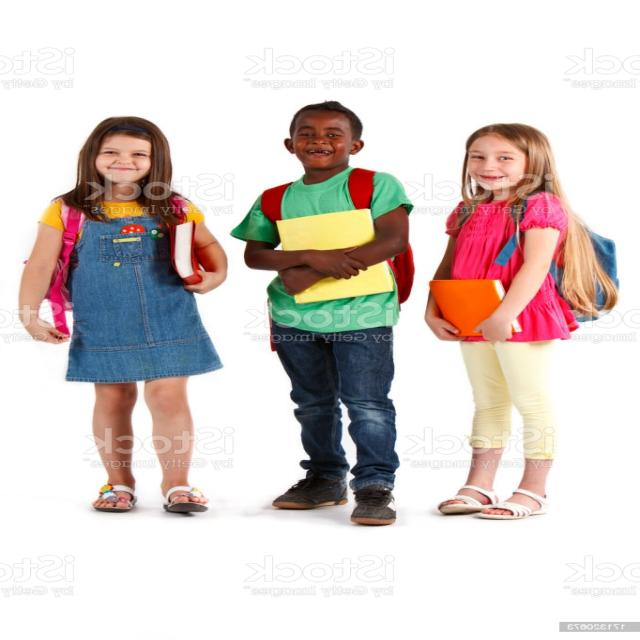child: (10, 104, 238, 539), (224, 98, 433, 530), (409, 122, 624, 525)
